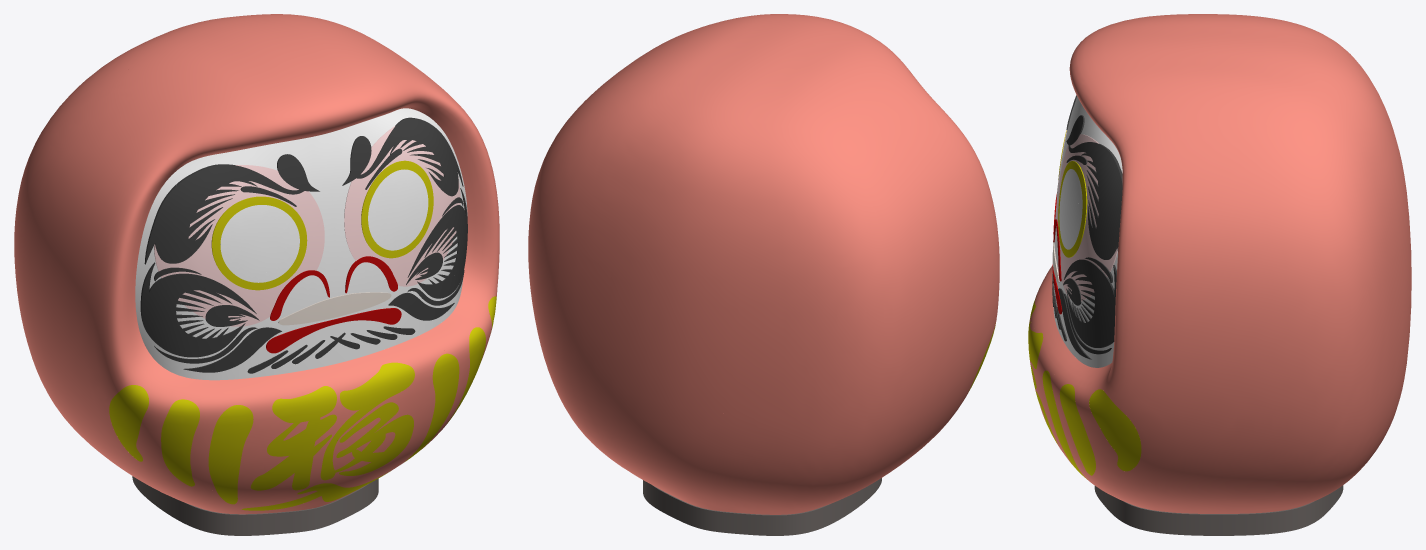
3 views of the same model, side by side, from view 1: azimuth 30°, elevation 25°; view 2: azimuth 150°, elevation 25°; view 3: azimuth 270°, elevation 25° (orthographic). The views are drawn at different scales.
Parts seen in each view (by area): view 1: 007_Daruma_Before; view 2: 007_Daruma_Before; view 3: 007_Daruma_Before.
Boxes of the visible parts, left/top/right/bottom form: 007_Daruma_Before: left=14, top=14, right=499, bottom=535; 007_Daruma_Before: left=528, top=14, right=999, bottom=535; 007_Daruma_Before: left=1028, top=14, right=1411, bottom=535.
Size of the model in its own units: 0.1682 by 0.1753 by 0.1372.
